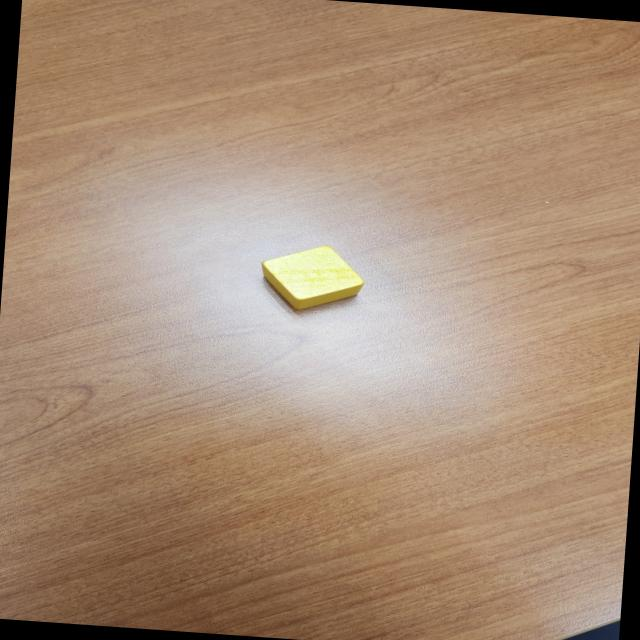yellow: (257, 241, 367, 315)
